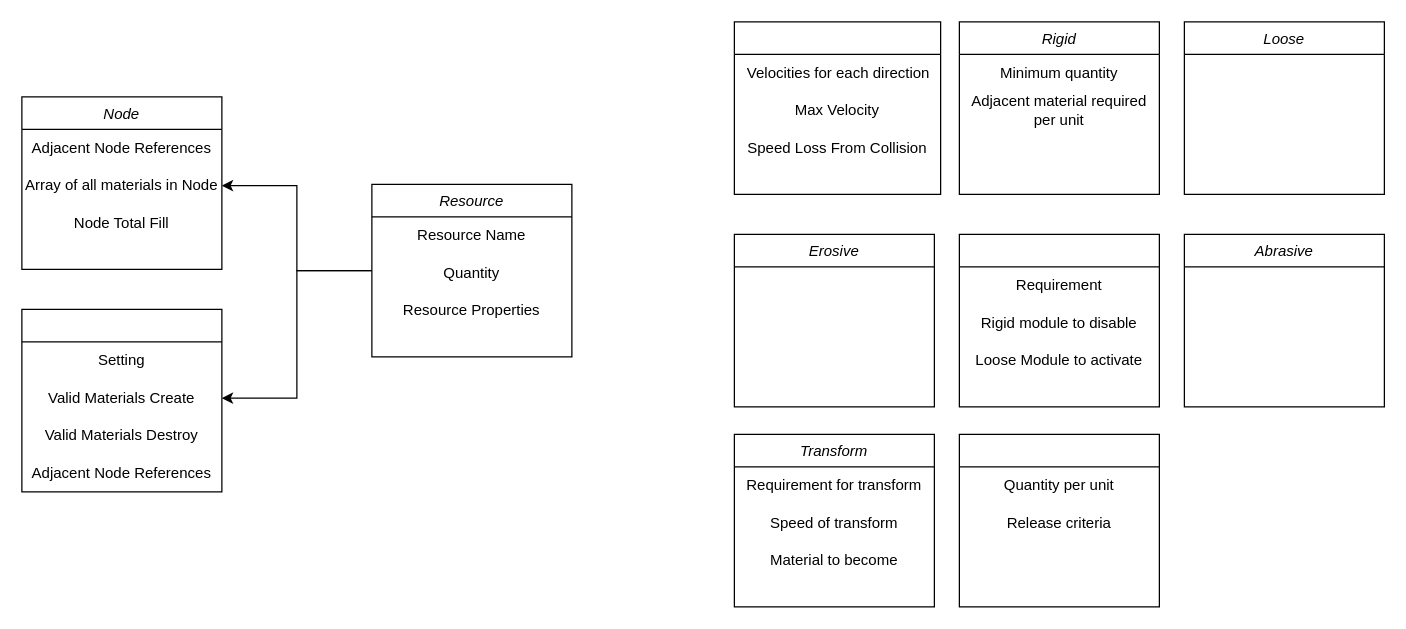
Some shapes in this 1406 by 629 pixel diagram are drawn without their labels. Each missing label, with the box of its shape:
Border Node: (21, 308, 222, 492)
Carryer: (958, 433, 1159, 607)
Erodable: (958, 233, 1159, 407)
Liquid: (733, 21, 941, 194)
